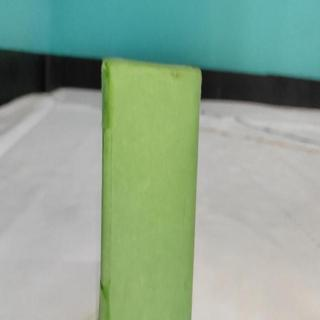greenbox: (97, 55, 202, 320)
